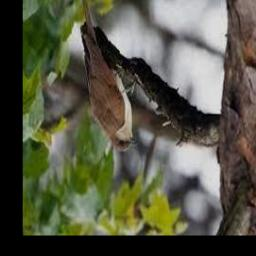Cuckoo: (77, 0, 138, 152)
